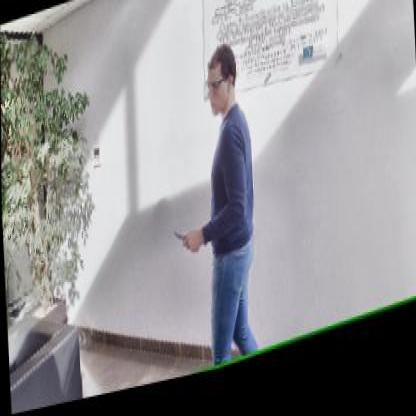knife: (170, 227, 198, 267)
